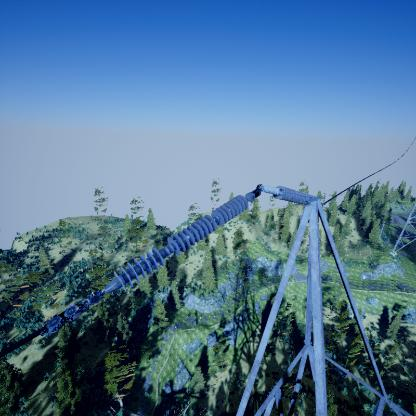insulator: (113, 194, 249, 290), (269, 187, 326, 210)
